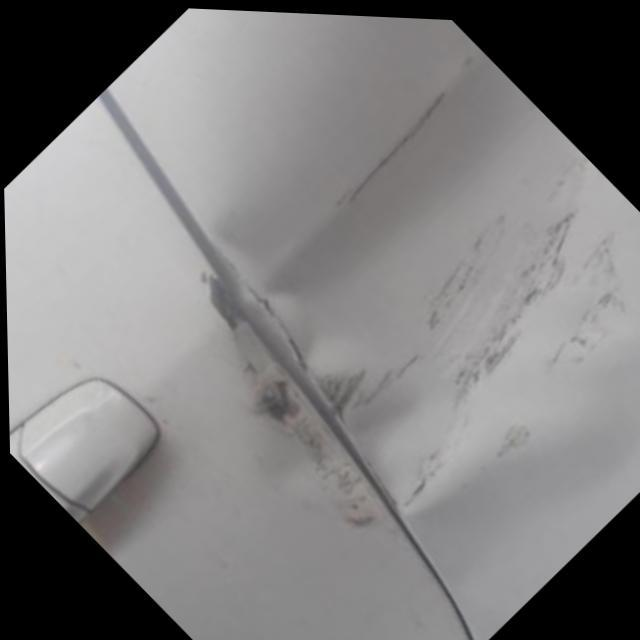dent: (190, 18, 626, 531)
